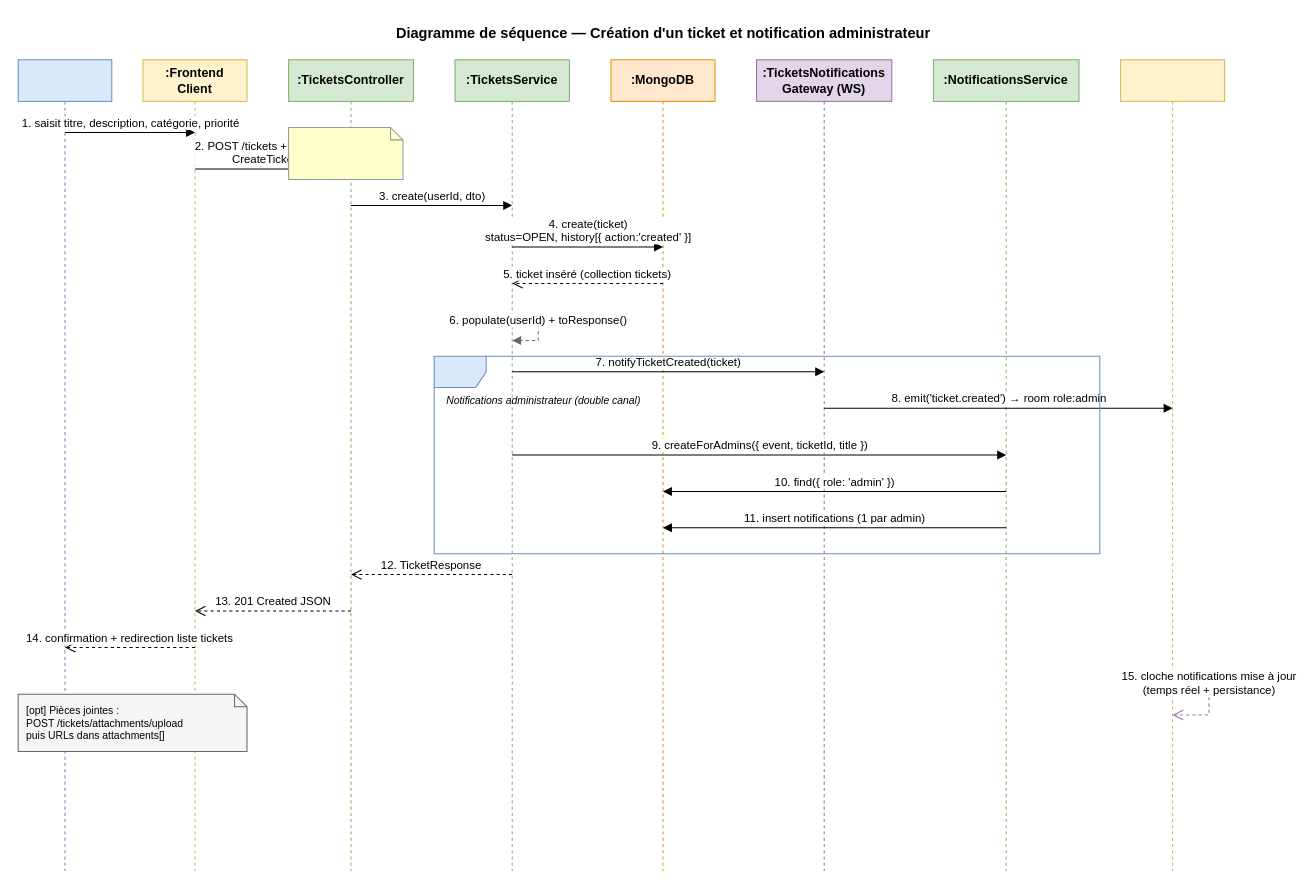
The diagram is 1315 pixels wide and 889 high, and some of its shapes have lost their labels. Here are the shapes that lost their labels. From the top down, the box of each, then its label:
(288, 126, 403, 179): JwtAuthGuard vérifie le token (rôle client)
(17, 59, 112, 871): :Client
(433, 355, 1100, 554): par
(1120, 59, 1225, 871): :Frontend Admin
